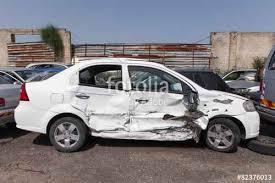Door: (67, 62, 205, 144)
Fender: (28, 67, 82, 112), (197, 89, 245, 119)
